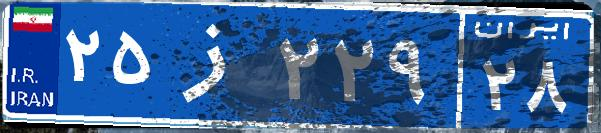2: (273, 28, 330, 110), (330, 28, 385, 110), (57, 26, 110, 107), (475, 38, 525, 113)
5: (110, 28, 158, 105)
8: (525, 38, 570, 115)
9: (385, 28, 445, 110)
ز: (158, 15, 273, 115)
